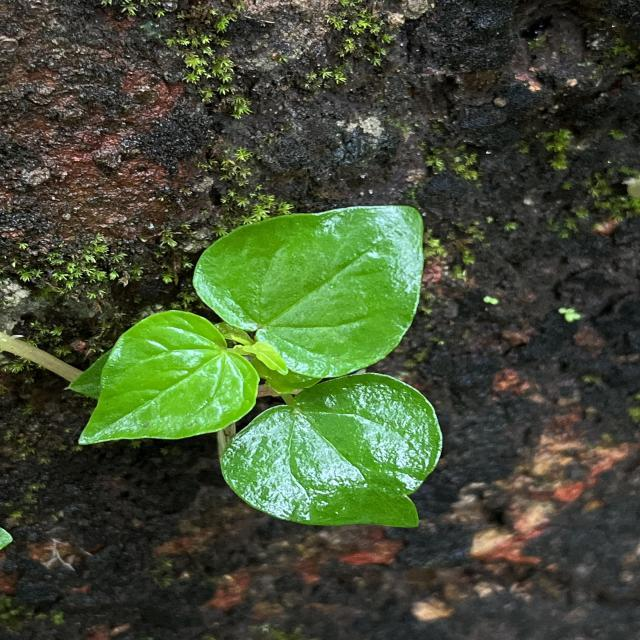Peperomia pellucida: (192, 204, 428, 380), (218, 370, 447, 532), (76, 308, 262, 446)
